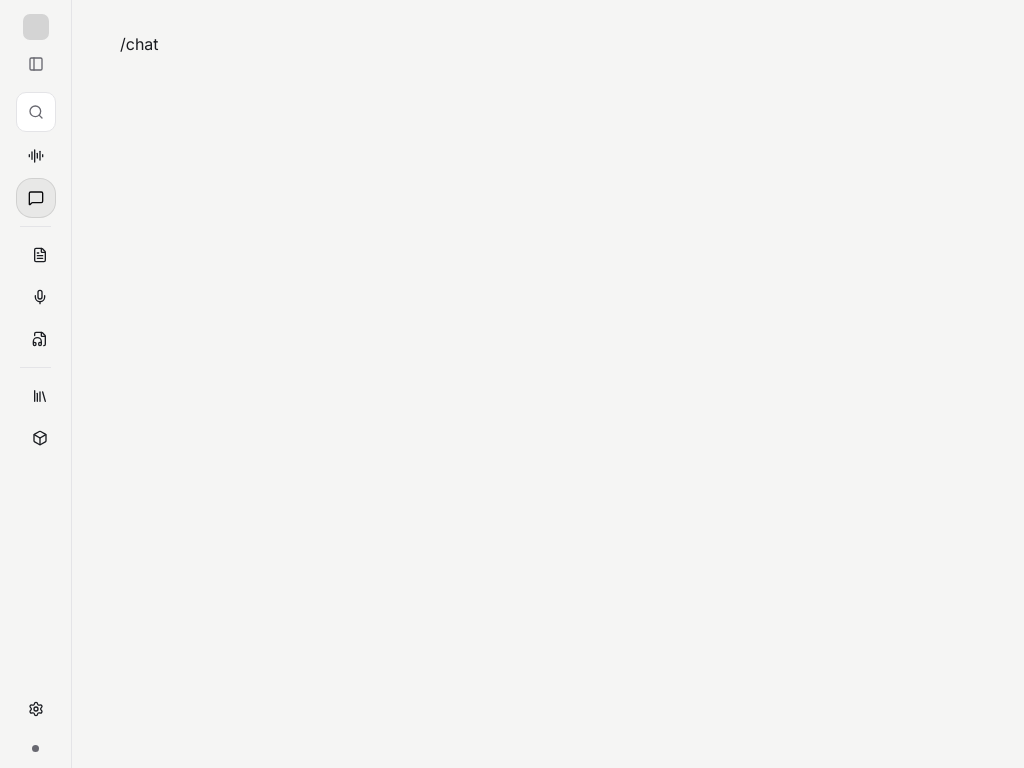
CommandPalette › says when nothing matches
Step 1. Press k
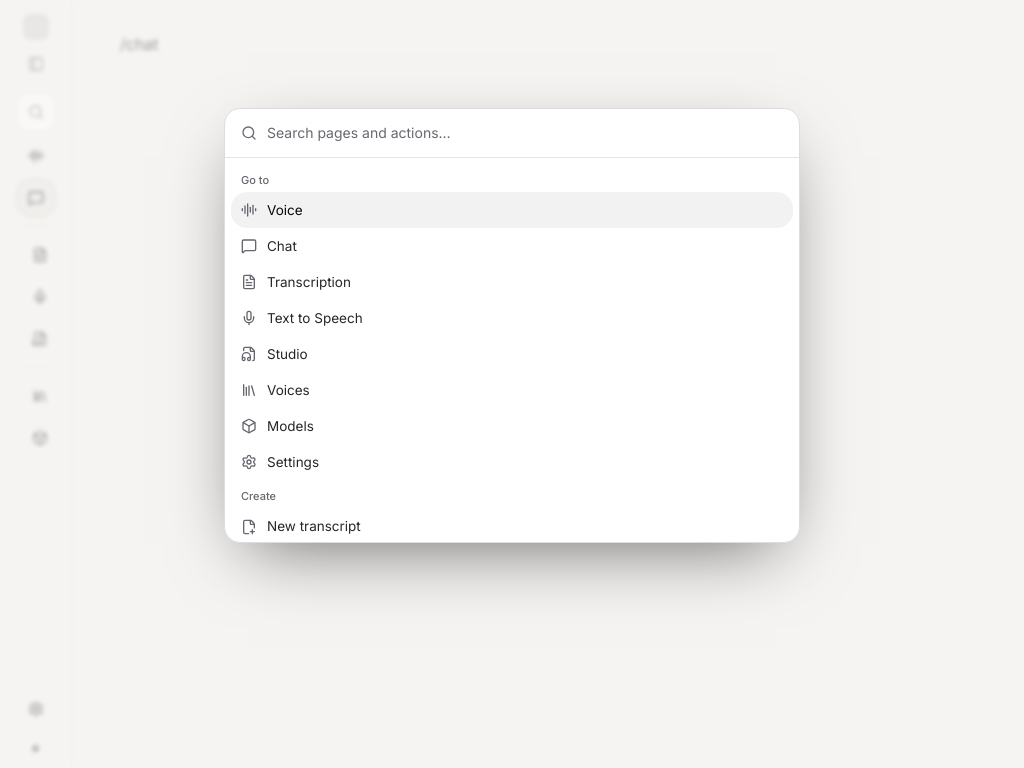
Step 2. Type "zzz" into the dropdown → (525, 132), box left=267, top=108, right=783, bottom=156
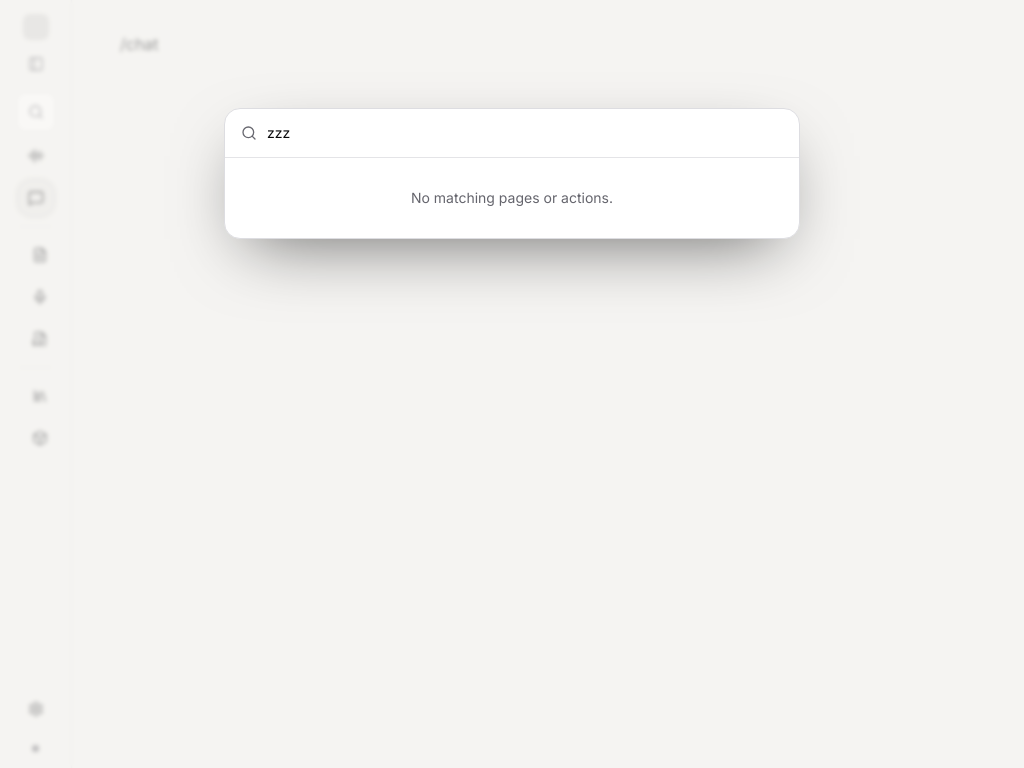
Expected: the text "No matching pages or actions." is shown, left=411, top=188, right=613, bottom=206
